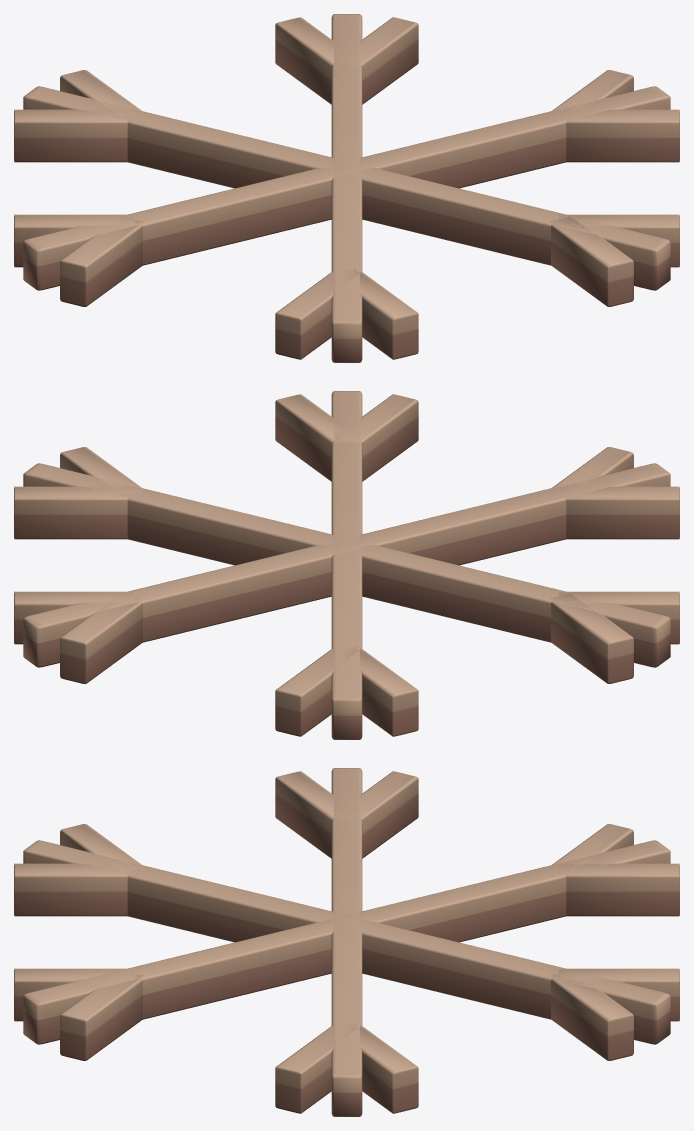
Rendered from Props.fbx.
3 views of the same model, one above another, from view 1: azimuth 30°, elevation 25°; view 2: azimuth 150°, elevation 25°; view 3: azimuth 270°, elevation 25° (orthographic).
Visible parts, largest first — view 1: Box20-3_1 (6), Box20-3_1 (7), Box20-3_1 (8) (×6), Box20-3_1 (9) (×6), Box20-3_1 (5); view 2: Box20-3_1 (5), Box20-3_1 (6), Box20-3_1 (8) (×6), Box20-3_1 (9) (×6), Box20-3_1 (7); view 3: Box20-3_1 (7), Box20-3_1 (5), Box20-3_1 (8) (×6), Box20-3_1 (9) (×6), Box20-3_1 (6).
Part boxes in pixels (x1=…): Box20-3_1 (6): x1=23, y1=86, x2=670, y2=290; Box20-3_1 (7): x1=23, y1=86, x2=670, y2=290; Box20-3_1 (8) (×6): x1=14, y1=17, x2=679, y2=359; Box20-3_1 (9) (×6): x1=14, y1=17, x2=679, y2=359; Box20-3_1 (5): x1=331, y1=14, x2=362, y2=362; Box20-3_1 (5): x1=23, y1=463, x2=670, y2=667; Box20-3_1 (6): x1=23, y1=463, x2=670, y2=667; Box20-3_1 (8) (×6): x1=14, y1=394, x2=679, y2=736; Box20-3_1 (9) (×6): x1=14, y1=394, x2=679, y2=736; Box20-3_1 (7): x1=331, y1=391, x2=362, y2=739; Box20-3_1 (7): x1=23, y1=840, x2=670, y2=1044; Box20-3_1 (5): x1=23, y1=840, x2=670, y2=1044; Box20-3_1 (8) (×6): x1=14, y1=771, x2=679, y2=1113; Box20-3_1 (9) (×6): x1=14, y1=771, x2=679, y2=1113; Box20-3_1 (6): x1=331, y1=768, x2=362, y2=1116.
Bounding box in the file's own units: 24 × 1.5 × 21.82.
